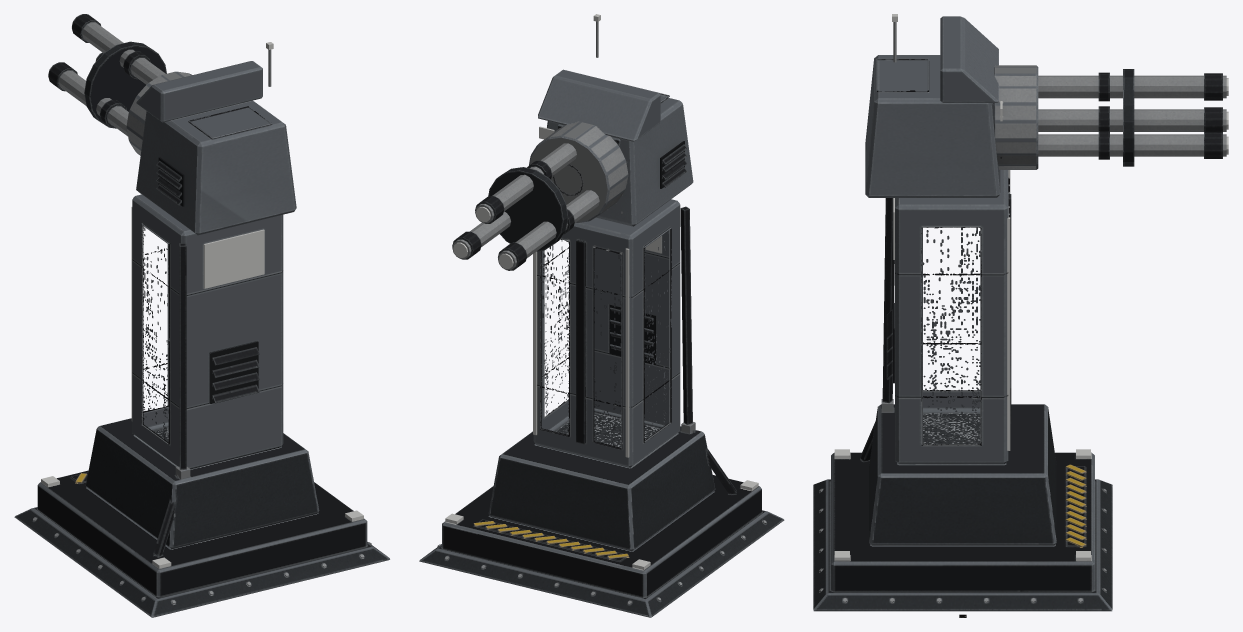
The model's file is chs_geryon.fbx.
The picture shows the model from 3 angles, left to right: view 1: azimuth 30°, elevation 25°; view 2: azimuth 150°, elevation 25°; view 3: azimuth 270°, elevation 25°; orthographic projection. The views are drawn at different scales.
Parts seen in each view (by area): view 1: base_bar, turret_bar, drum_bar, base_glow_power_bar, barrel1_bar, barrel2_bar, base_glow_running_bar; view 2: base_bar, turret_bar, drum_bar, base_glow_running_bar, barrel1_bar, barrel2_bar, barrel3_bar; view 3: base_bar, turret_bar, drum_bar, barrel1_bar, barrel3_bar, barrel2_bar, base_glow_running_bar.
Boxes of the visible parts, left/top/right/bottom form: base_bar: left=14, top=194, right=389, bottom=617; turret_bar: left=136, top=49, right=296, bottom=235; drum_bar: left=84, top=41, right=192, bottom=155; base_glow_power_bar: left=203, top=229, right=264, bottom=288; barrel1_bar: left=72, top=14, right=165, bottom=84; barrel2_bar: left=48, top=62, right=128, bottom=136; base_glow_running_bar: left=41, top=207, right=363, bottom=568; base_bar: left=419, top=199, right=784, bottom=617; turret_bar: left=538, top=21, right=693, bottom=226; drum_bar: left=488, top=122, right=628, bottom=251; base_glow_running_bar: left=445, top=248, right=758, bottom=569; barrel1_bar: left=475, top=143, right=576, bottom=223; barrel2_bar: left=498, top=190, right=599, bottom=270; barrel3_bar: left=452, top=211, right=510, bottom=259; base_bar: left=813, top=170, right=1112, bottom=611; turret_bar: left=865, top=16, right=1000, bottom=197; drum_bar: left=993, top=65, right=1134, bottom=169; barrel1_bar: left=1038, top=72, right=1226, bottom=101; barrel3_bar: left=1038, top=131, right=1226, bottom=159; barrel2_bar: left=1038, top=106, right=1226, bottom=131; base_glow_running_bar: left=834, top=170, right=1090, bottom=560.
Size of the model in its own units: 794 by 1816 by 1102.
2 materials, 2 textured.
